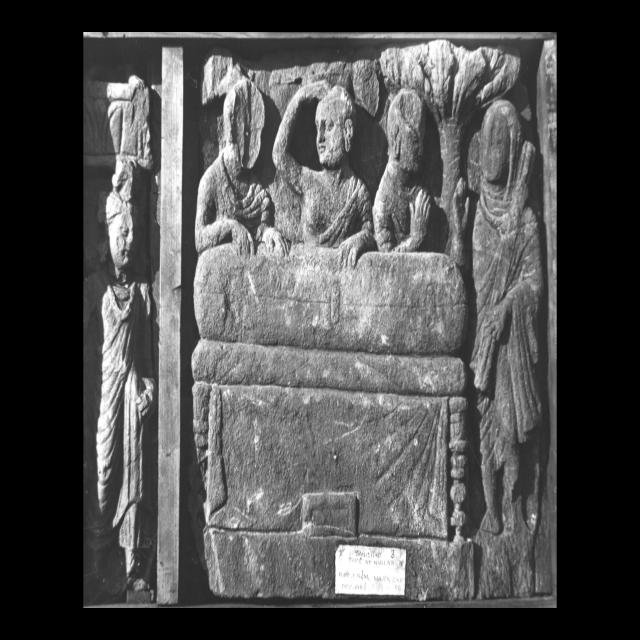buddha-sleeping: (192, 244, 471, 598)
